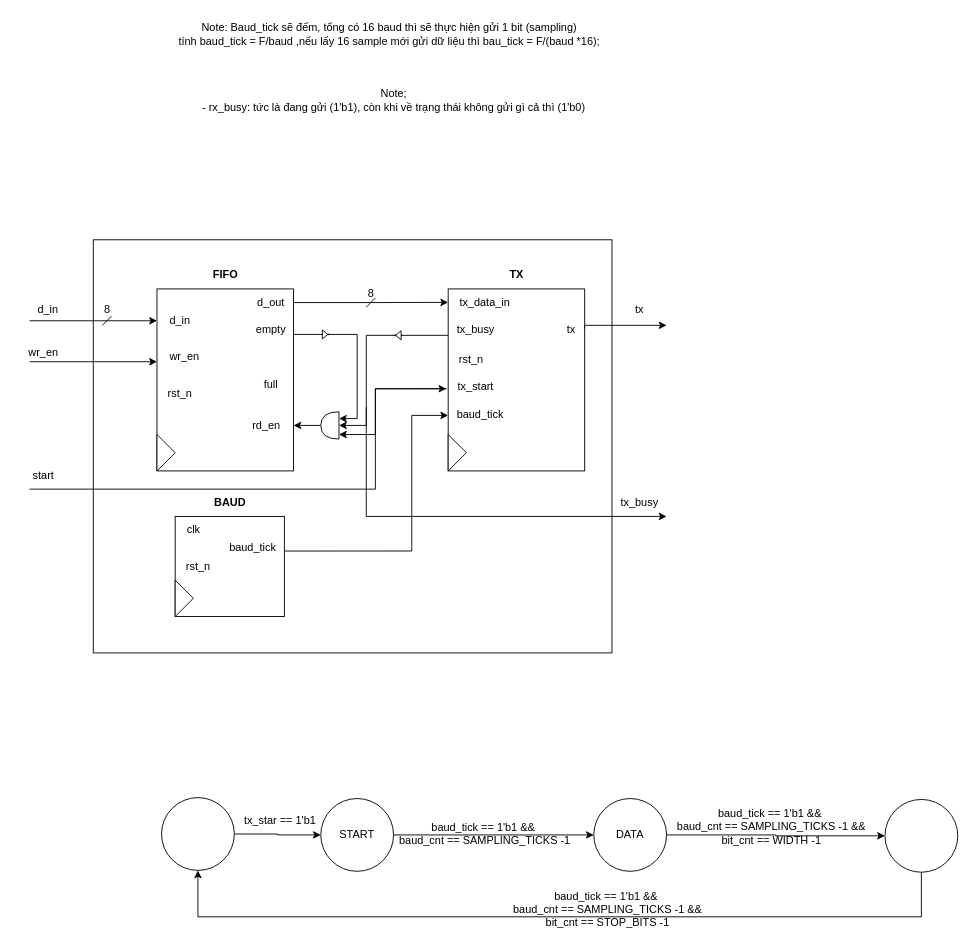
This 974x952 diagram has some shape labels left out. The shapes that lost their labels are listed below. From the top down, each one's centre as x and y in pixels, then its label:
point (197, 833): IDLE
point (921, 835): STOP
